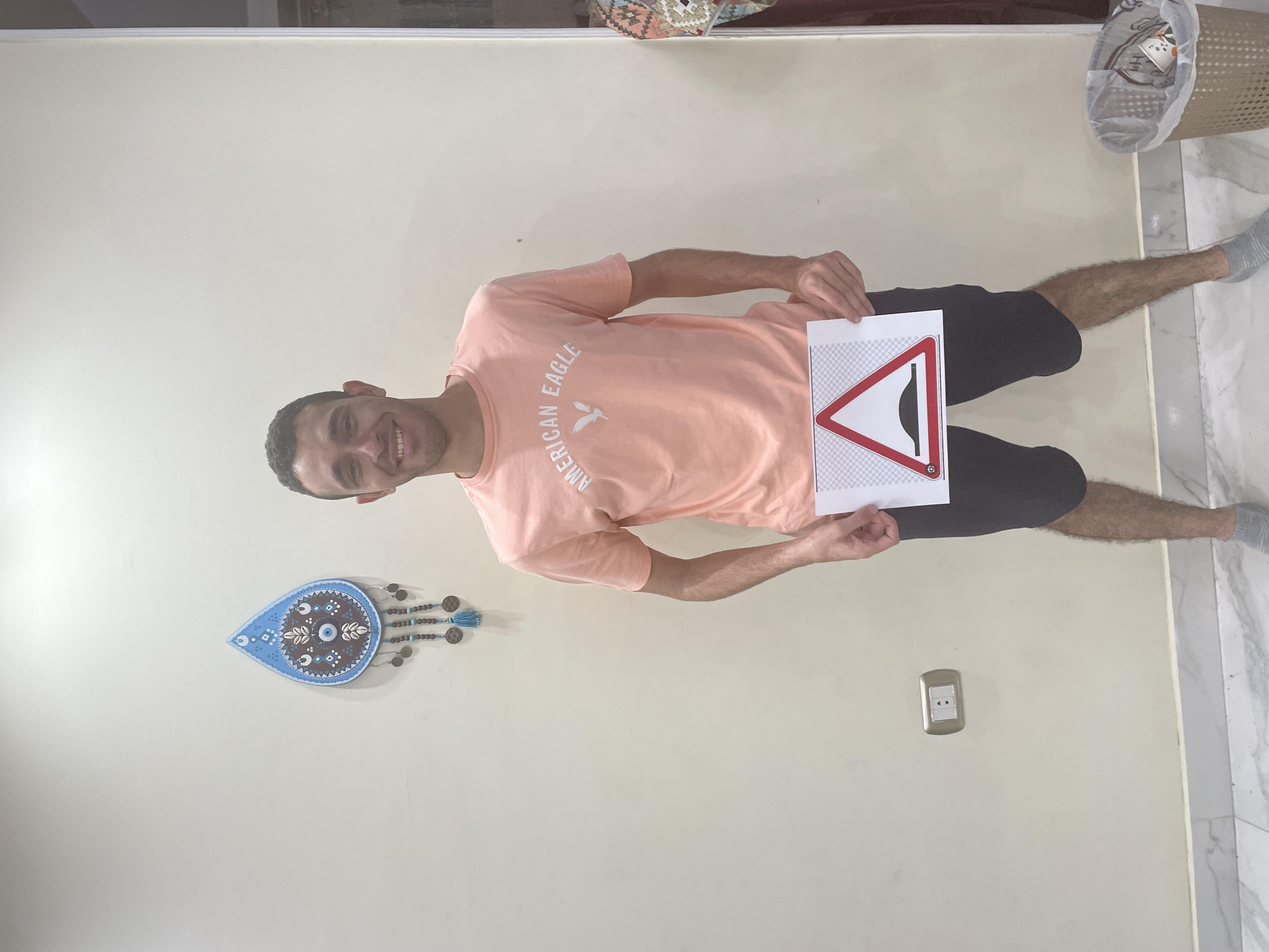Hump: (630, 607, 828, 708)
